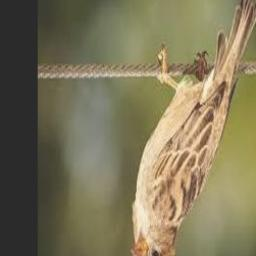Sparrow: (132, 0, 256, 256)
